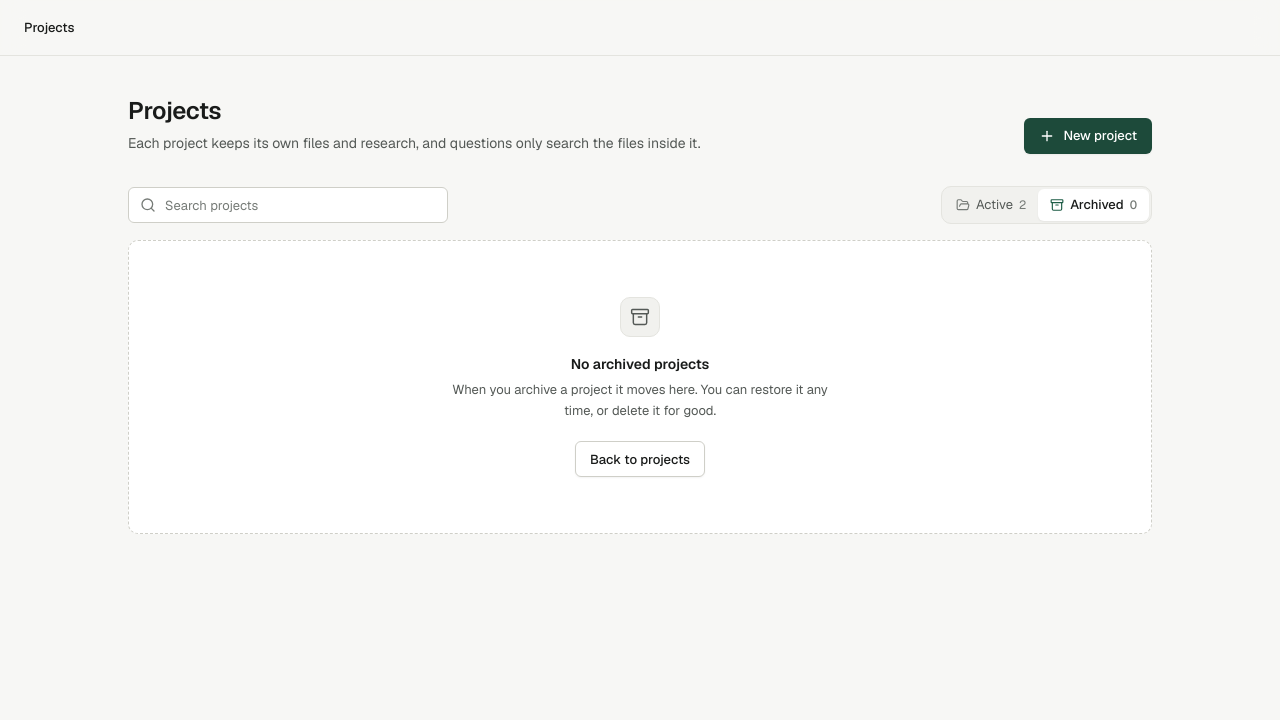
Test case: Projects archive › shows a friendly empty state when nothing is archived
The width and height of the screenshot is (1280, 720).
Expected: the heading "No archived projects" is shown, [571,353,709,375]
Click the button "Back to projects": click(640, 459) [575,441,705,477]
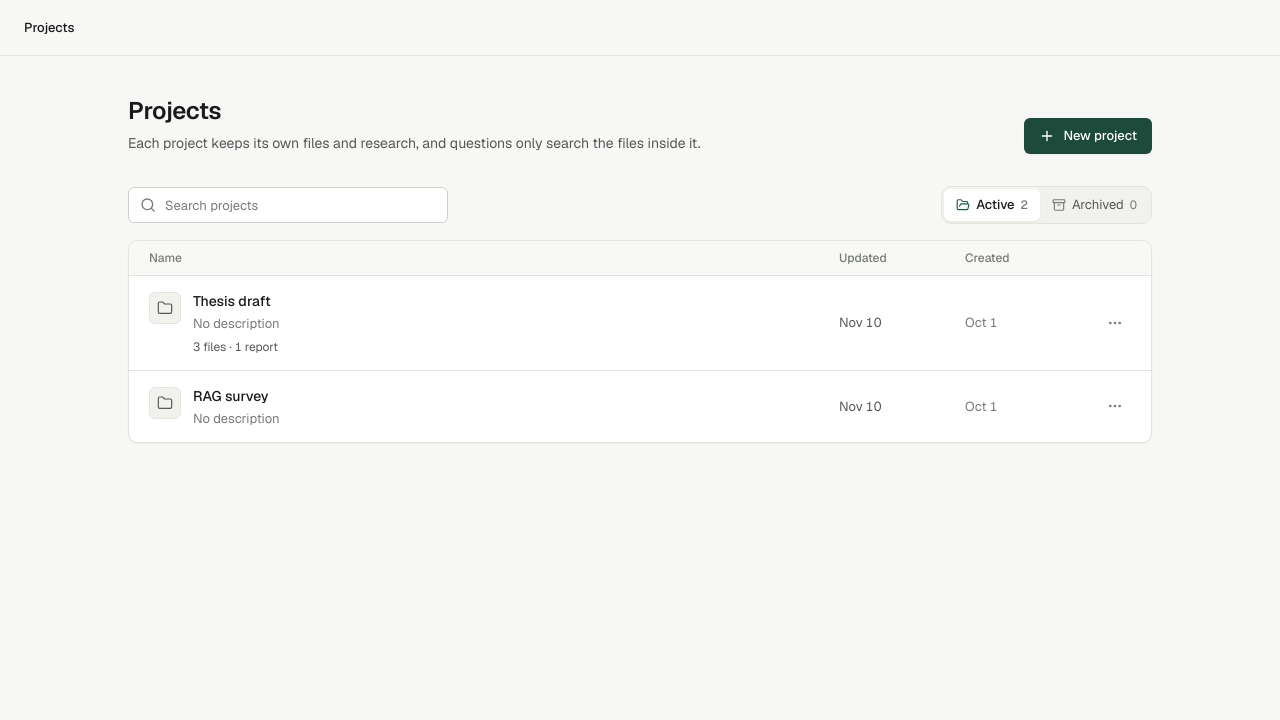
Expected: the heading "Thesis draft" is shown, [193,290,271,312]
